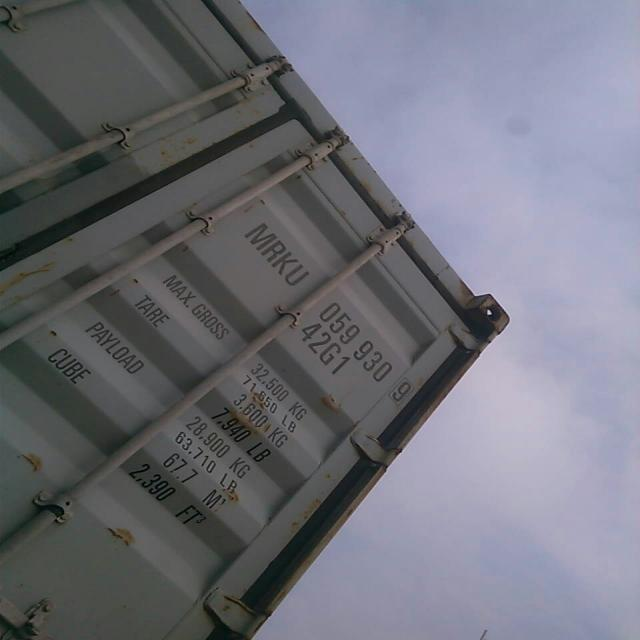rust: (1, 260, 65, 299), (101, 524, 143, 552), (13, 450, 48, 481), (458, 277, 478, 306)
